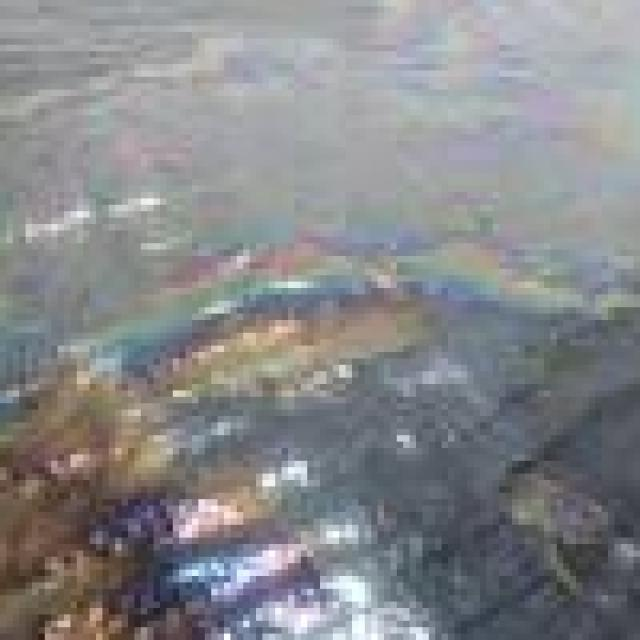-: (0, 64, 640, 474), (0, 198, 218, 640), (128, 0, 640, 166), (422, 0, 640, 314), (480, 461, 640, 640)
